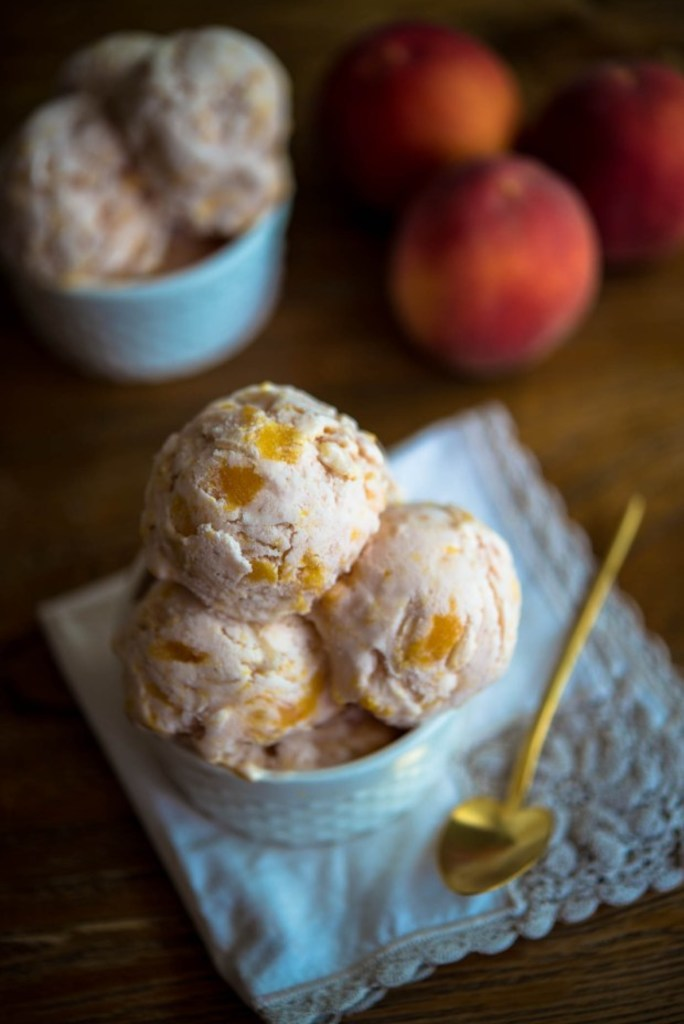Apple: (393, 148, 601, 372), (310, 24, 530, 198), (559, 62, 682, 264)
